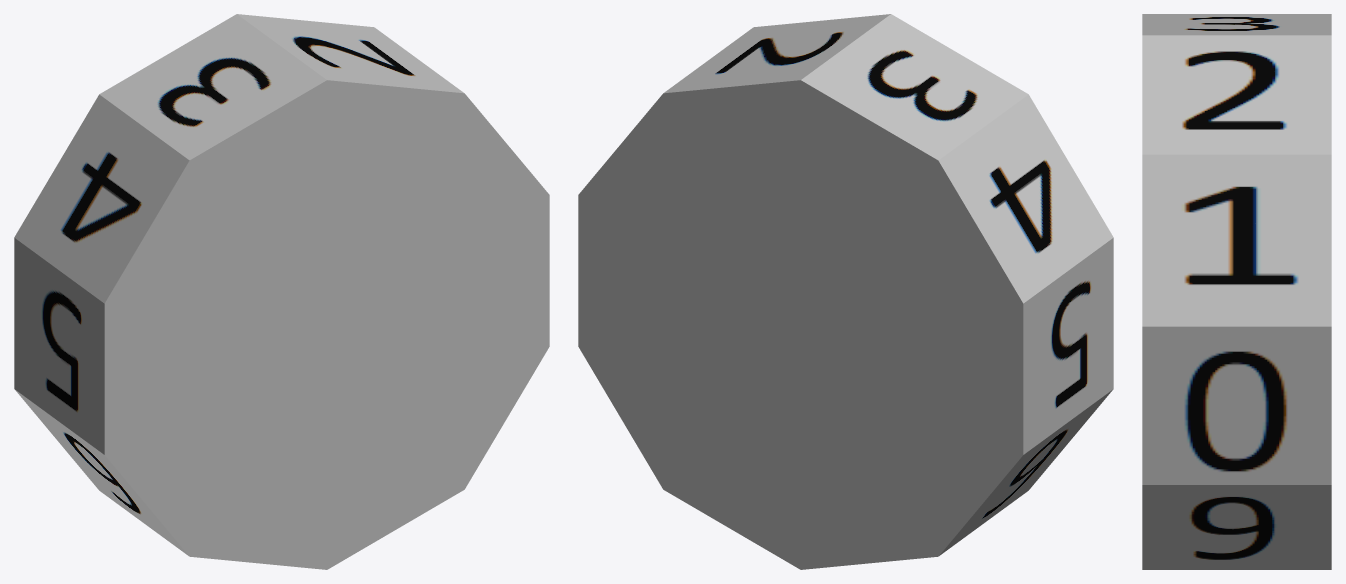
Rendered from nummerslotModel.fbx.
3 views of the same model, side by side, from view 1: azimuth 30°, elevation 25°; view 2: azimuth 150°, elevation 25°; view 3: azimuth 270°, elevation 25° (orthographic). The views are drawn at different scales.
Visible parts, largest first — view 1: Cylinder; view 2: Cylinder; view 3: Cylinder.
Boxes of the visible parts, bbox=[...] form: Cylinder: bbox=[14, 14, 549, 569]; Cylinder: bbox=[578, 14, 1113, 569]; Cylinder: bbox=[1142, 14, 1331, 569].
Size of the model in its own units: 190 by 200 by 66.88.
